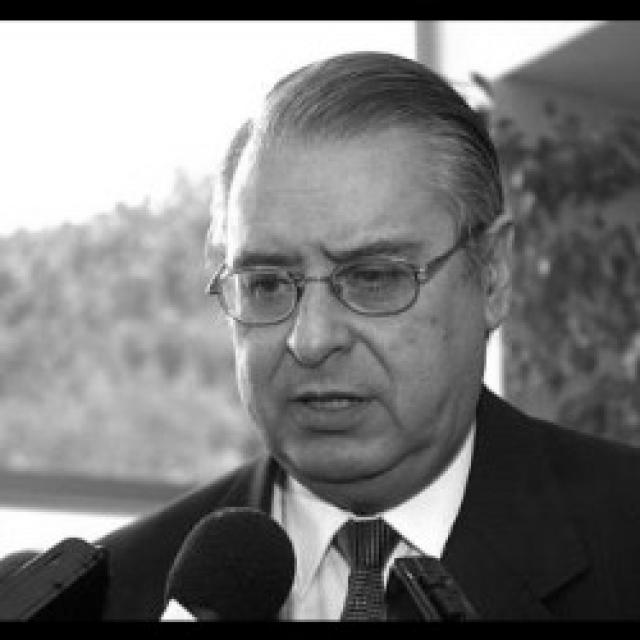real: (226, 136, 474, 485), (234, 246, 435, 319)
